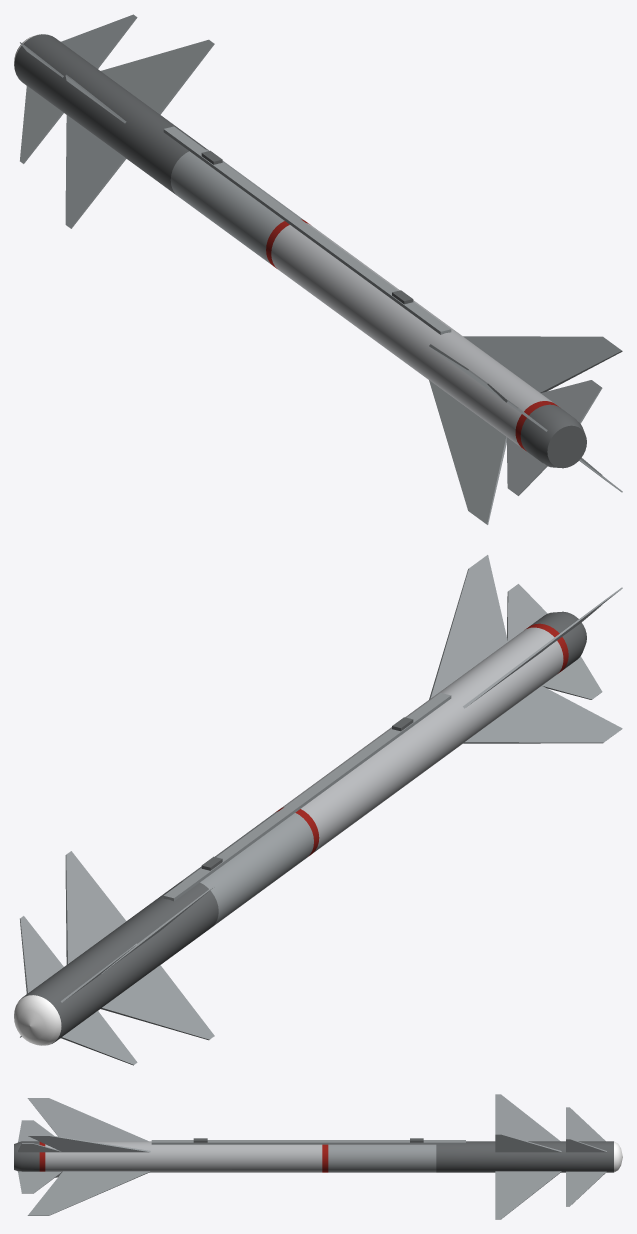
File: pyth5.glb
3 renders of one model, top to bottom at view 1: azimuth 30°, elevation 25°; view 2: azimuth 150°, elevation 25°; view 3: azimuth 270°, elevation 25°, orthographic. The views are drawn at different scales.
Parts seen in each view (by area): view 1: pyth5_body; view 2: pyth5_body; view 3: pyth5_body.
Part boxes in pixels (x1,y1,x2,y2): pyth5_body: (14, 14, 622, 524); pyth5_body: (14, 555, 622, 1065); pyth5_body: (14, 1094, 622, 1219).
Bounding box in the file's own units: 0.473 × 0.473 × 3.05.
Materials: 5 (5 with a texture image).
